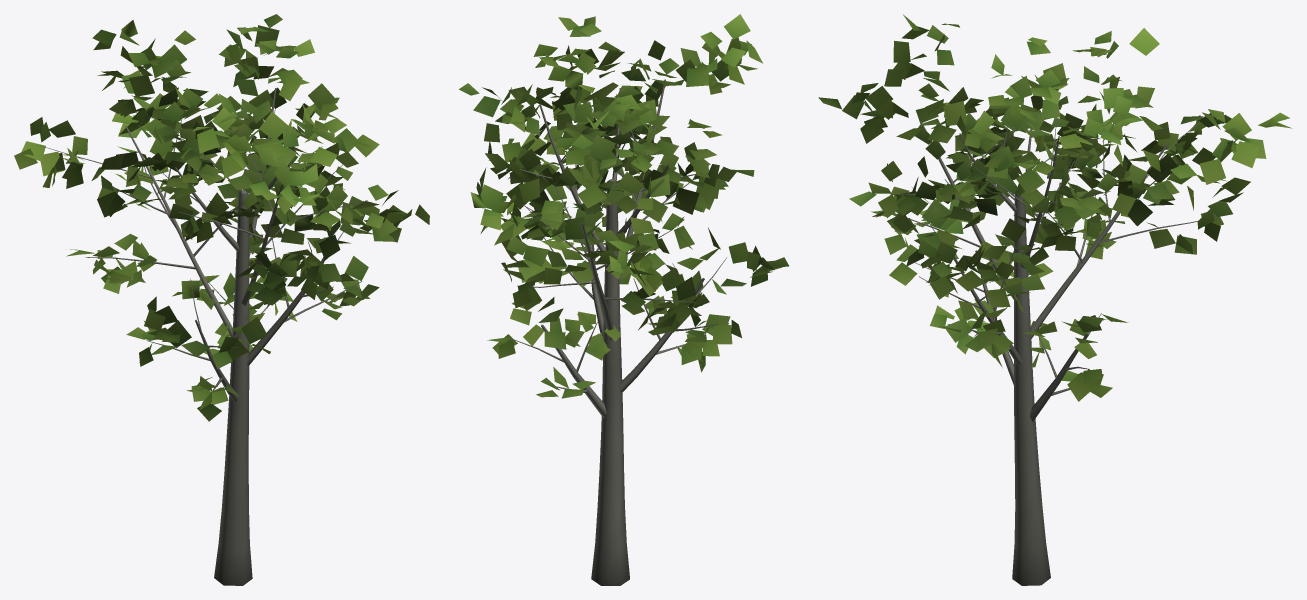
The model's file is beech-a.lod1.glb.
3 views of the same model, side by side, from view 1: azimuth 30°, elevation 25°; view 2: azimuth 150°, elevation 25°; view 3: azimuth 270°, elevation 25° (orthographic).
Bounding box in the file's own units: 6.92 × 12.62 × 9.89.
